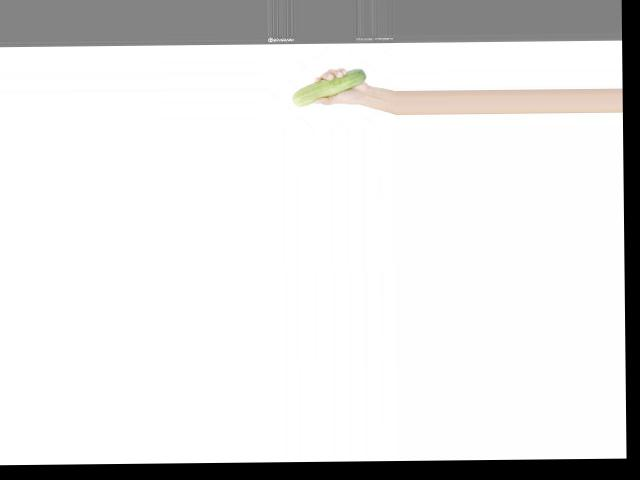cucumber: (293, 68, 367, 106)
